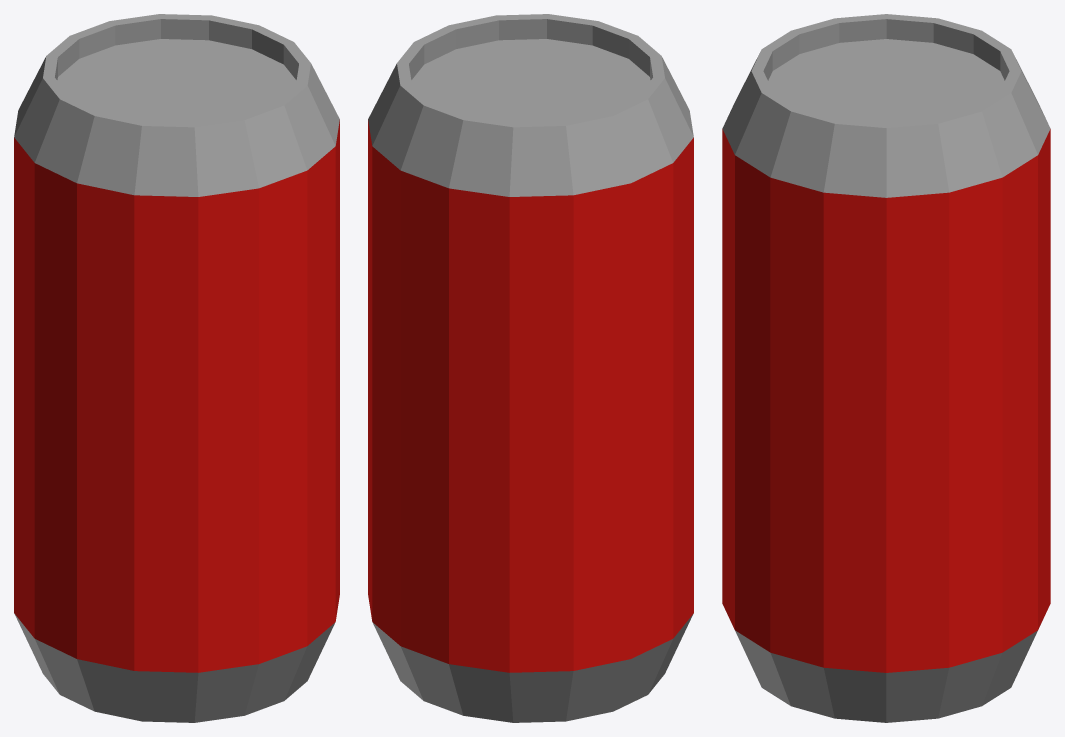
File: can.fbx
3 renders of one model, left to right at view 1: azimuth 30°, elevation 25°; view 2: azimuth 150°, elevation 25°; view 3: azimuth 270°, elevation 25°, orthographic.
Parts seen in each view (by area): view 1: Can; view 2: Can; view 3: Can.
Boxes of the visible parts, box(x1,y1,x2,y2) form: Can: box(14, 14, 339, 722); Can: box(368, 14, 693, 722); Can: box(722, 14, 1050, 722).
Size of the model in its own units: 40 by 80 by 40.
